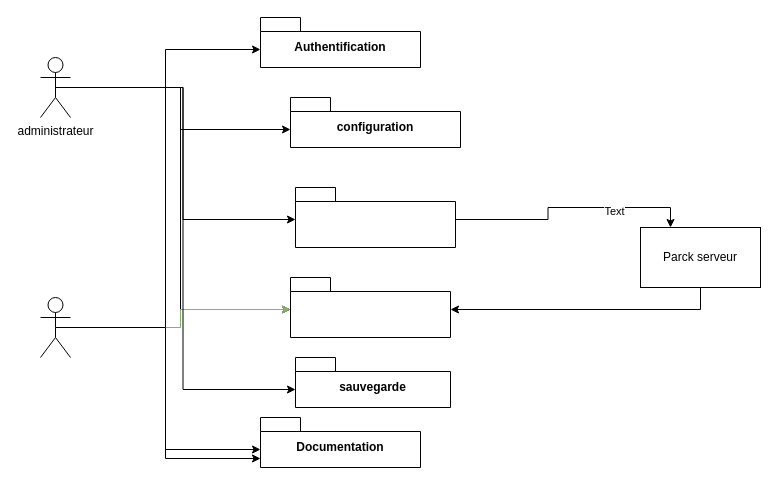
Image size: 778x485. Some labels were removed from this diagram. The centre of each missing label's shape, as x and y in pixels:
communication serveur: point 375,217
surveillance serveur: point 370,307
technicien: point 55,327
